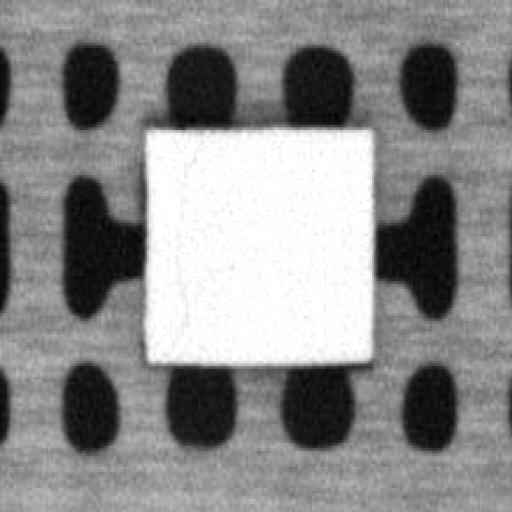DIE_CRACK: (156, 146, 204, 353)
